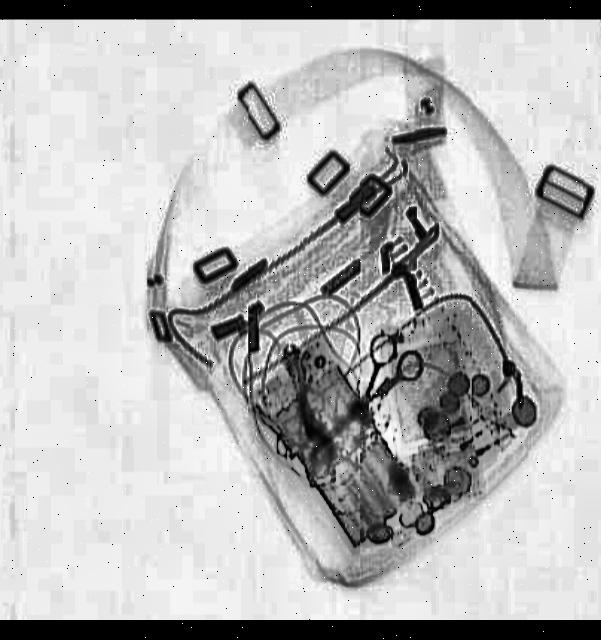Scissors: (324, 324, 430, 439)
